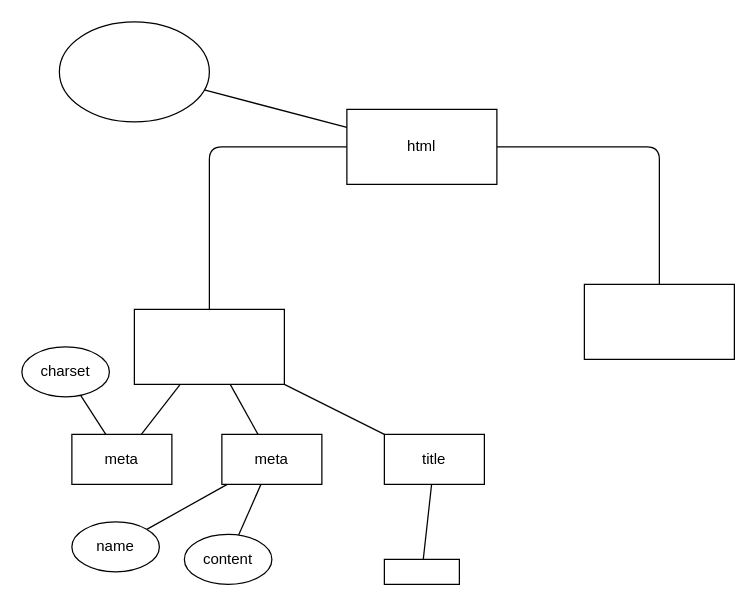
Some shapes in this 756 by 606 pixel diagram are drawn without their labels. The shapes that lost their labels are listed below. From the top down, each one's centre as x and y in pixels, then its label:
At pixel 133 71: "lang".
At pixel 658 321: "body".
At pixel 208 346: "head".
At pixel 421 571: "document".
